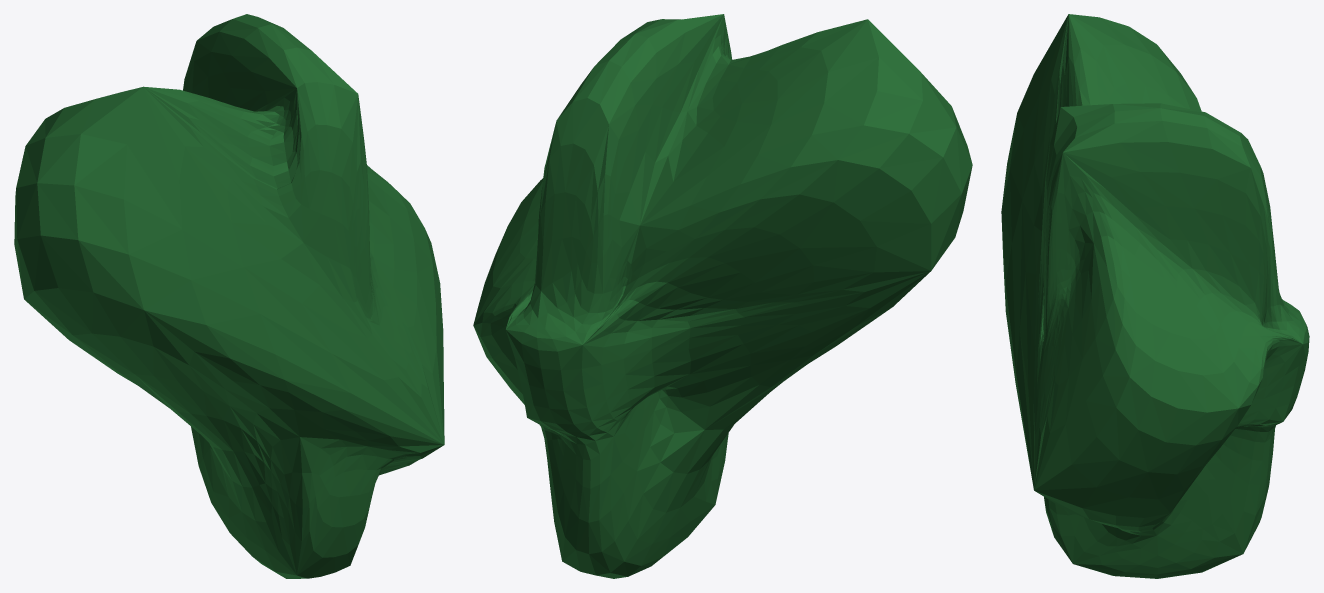
The picture shows the model from 3 angles, left to right: view 1: azimuth 30°, elevation 25°; view 2: azimuth 150°, elevation 25°; view 3: azimuth 270°, elevation 25°; orthographic projection. The views are drawn at different scales.
Visible parts, largest first — view 1: 572_Cube.2304; view 2: 572_Cube.2304; view 3: 572_Cube.2304.
Part boxes in pixels (<box>): 572_Cube.2304: <box>14,14,444,578</box>; 572_Cube.2304: <box>473,14,972,578</box>; 572_Cube.2304: <box>1001,14,1309,578</box>.
Bounding box in the file's own units: 9.88 × 12.04 × 6.95.
